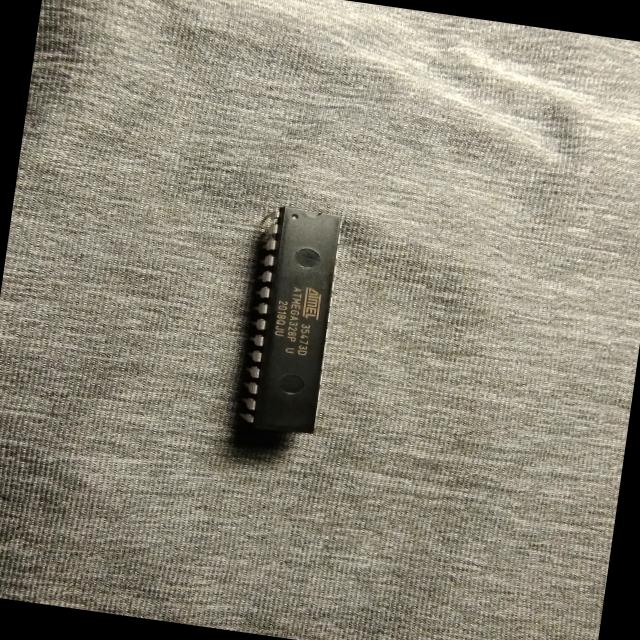atmega: (227, 200, 348, 442)
